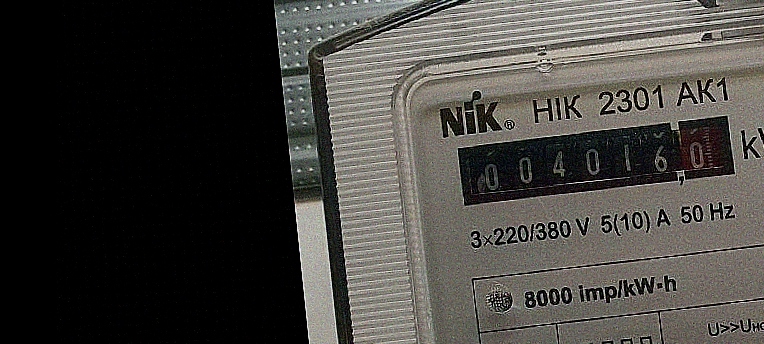0: (581, 143, 606, 180), (480, 158, 505, 193), (685, 137, 709, 171), (515, 152, 537, 187)
1: (619, 138, 637, 174)
4: (548, 145, 570, 181)
6: (649, 140, 672, 174)
screen: (450, 108, 745, 214)
